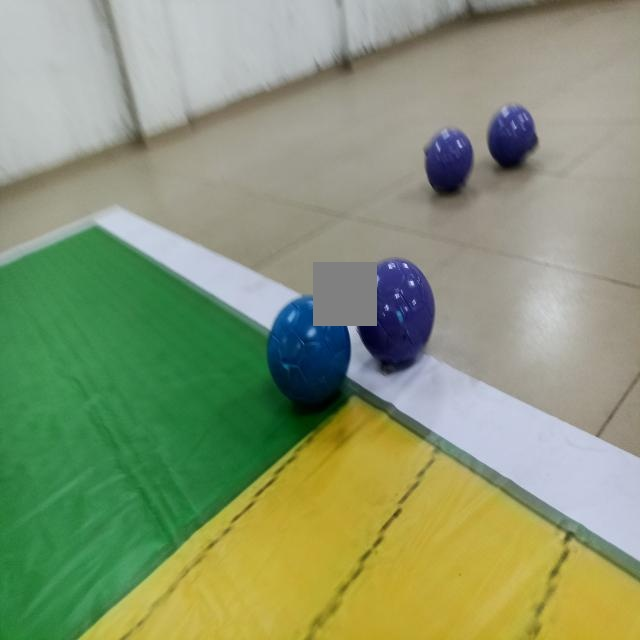blue_ball: (272, 296, 349, 402)
purple_ball: (356, 260, 432, 368), (425, 129, 474, 191), (487, 105, 536, 167)
